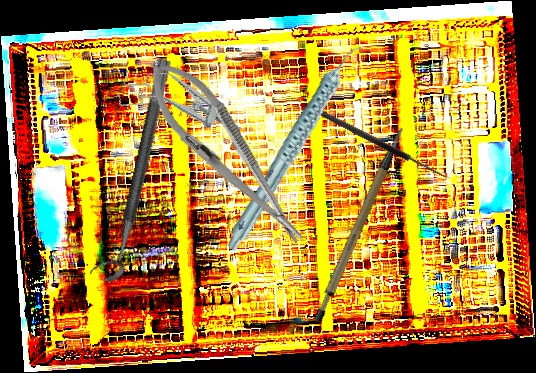Fixation Ring: (88, 54, 173, 285)
Handpiece: (189, 41, 403, 255)
Hook Surgical: (310, 99, 455, 182)
Needle Holder: (131, 44, 321, 260)
Scalpel Handle: (288, 125, 435, 326)
Speculum: (113, 59, 251, 146)
